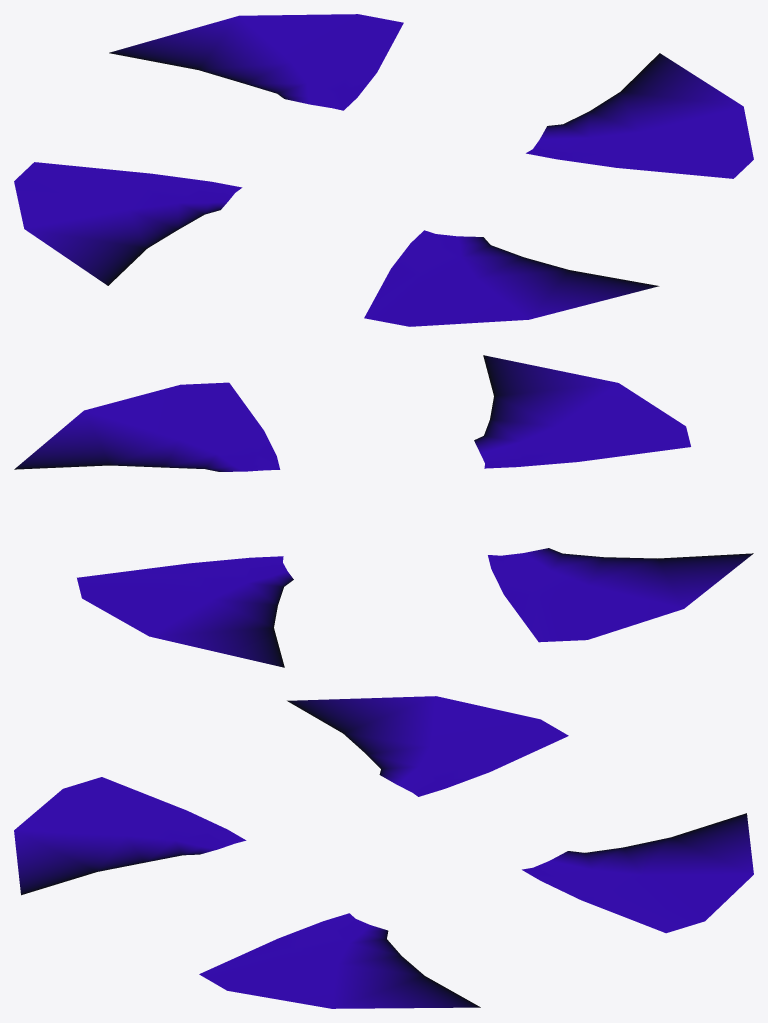
The model's file is SM_WEP_Eff_TrueRasenShuriken_02.mo.fbx.
The picture shows the model from 3 angles, top to bottom: view 1: azimuth 30°, elevation 25°; view 2: azimuth 150°, elevation 25°; view 3: azimuth 270°, elevation 25°; orthographic projection. The views are drawn at different scales.
Visible parts, largest first — view 1: SM_WEP_Eff_TrueRasenShuriken_02.mo; view 2: SM_WEP_Eff_TrueRasenShuriken_02.mo; view 3: SM_WEP_Eff_TrueRasenShuriken_02.mo.
Part boxes in pixels (box(x1,y1,x2,y2)): SM_WEP_Eff_TrueRasenShuriken_02.mo: box(14, 14, 753, 326); SM_WEP_Eff_TrueRasenShuriken_02.mo: box(14, 355, 753, 667); SM_WEP_Eff_TrueRasenShuriken_02.mo: box(14, 696, 753, 1008).
Size of the model in its own units: 1.13 by 0.00537 by 1.13.
